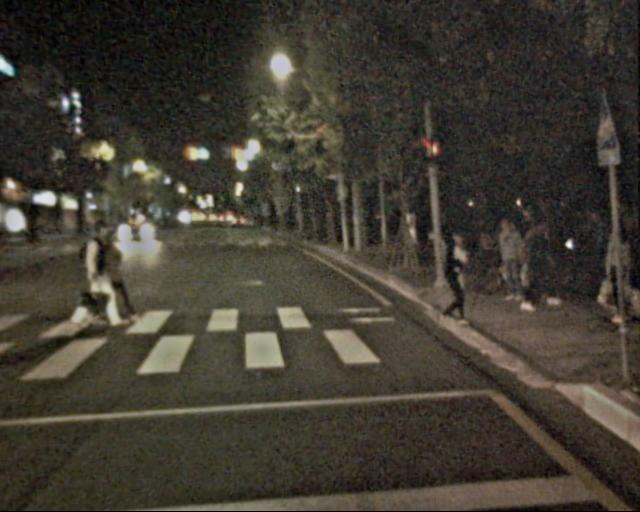person: (594, 222, 637, 328), (431, 226, 474, 331), (81, 221, 124, 325), (519, 218, 558, 313), (97, 233, 133, 322), (581, 206, 616, 292), (494, 216, 528, 299), (516, 206, 550, 288)
